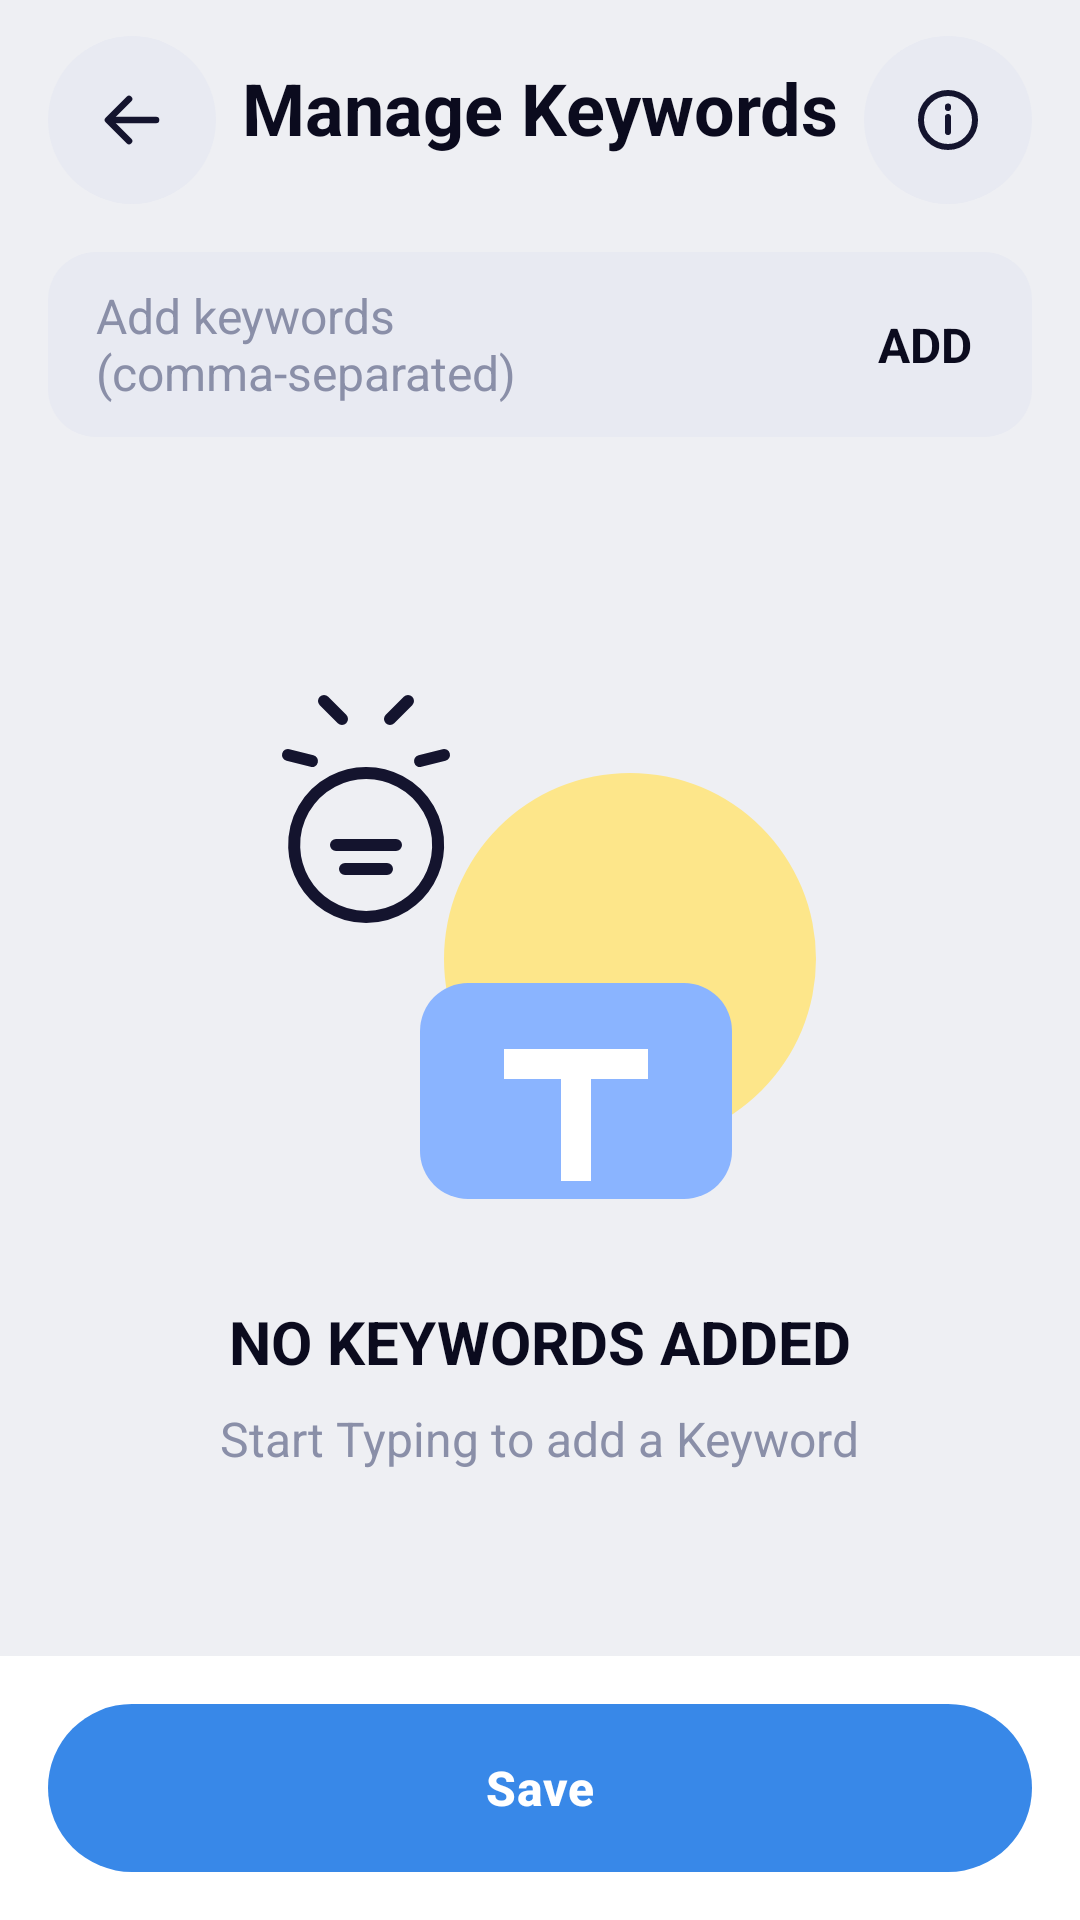

Point at icon controls on the screen. Image size 1080w x 1920h, points as (x,y).
About keyword blocking: (948,120)
Back: (132,120)
